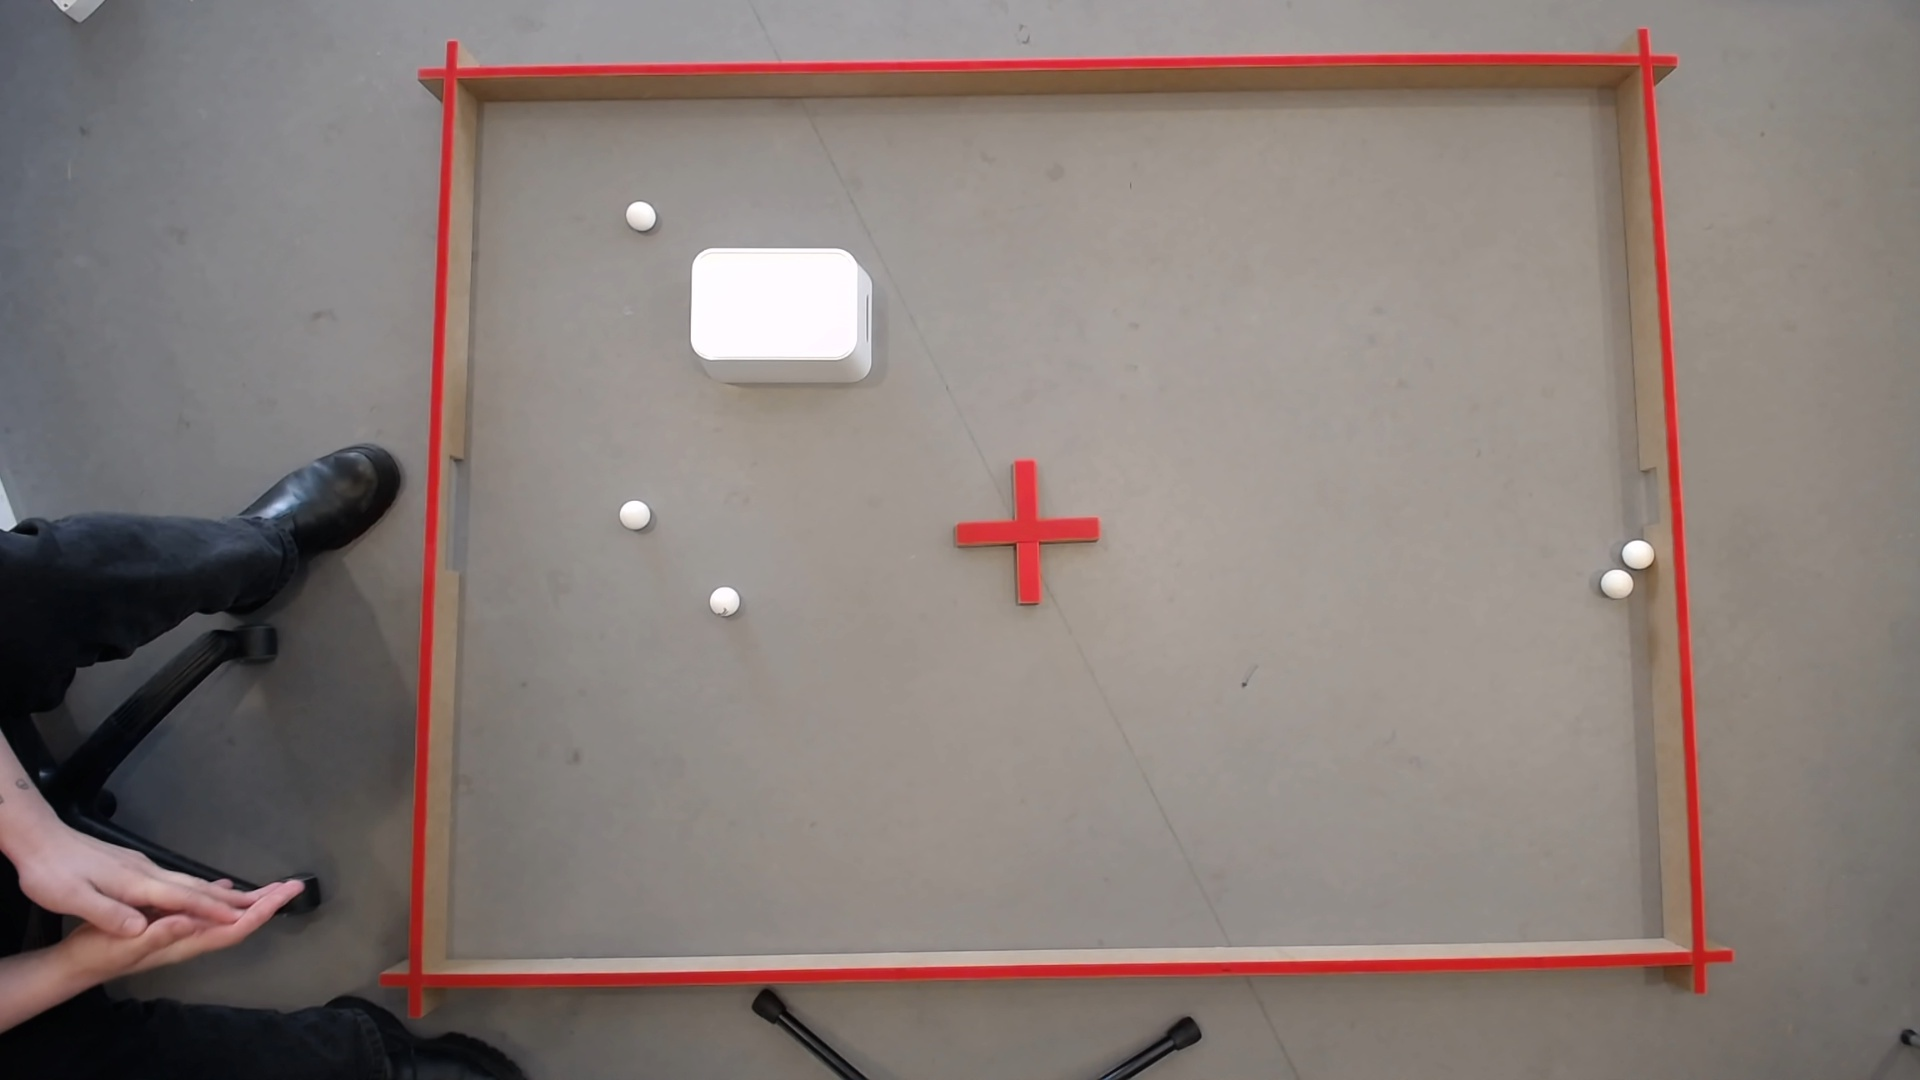balls: (690, 248, 862, 360), (50, 849, 96, 882), (707, 582, 742, 616), (616, 495, 653, 527), (624, 196, 659, 228), (1600, 564, 1634, 595), (1622, 539, 1651, 563), (135, 878, 169, 893)
car: (160, 869, 194, 885)
